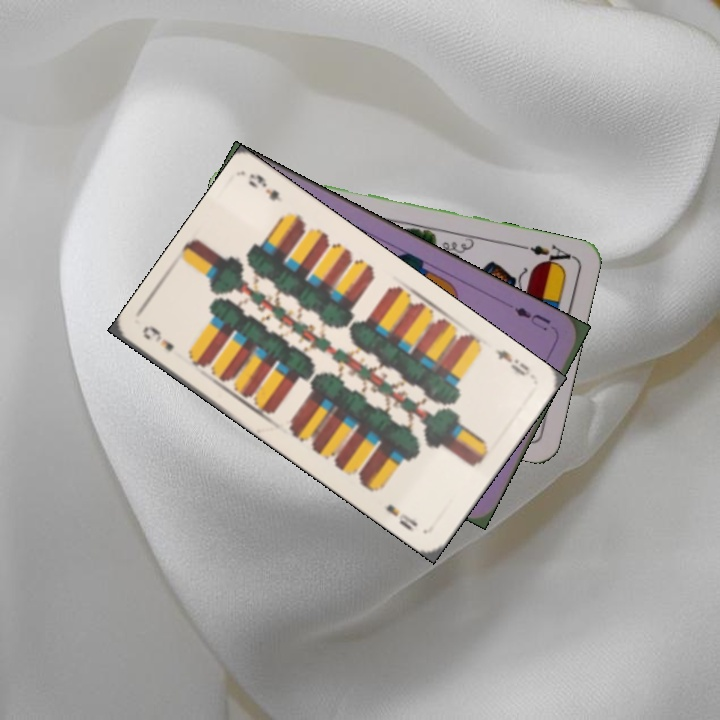E9: (491, 344, 533, 379), (138, 321, 177, 354)
EA: (517, 240, 576, 270)
EU: (510, 303, 553, 334)
